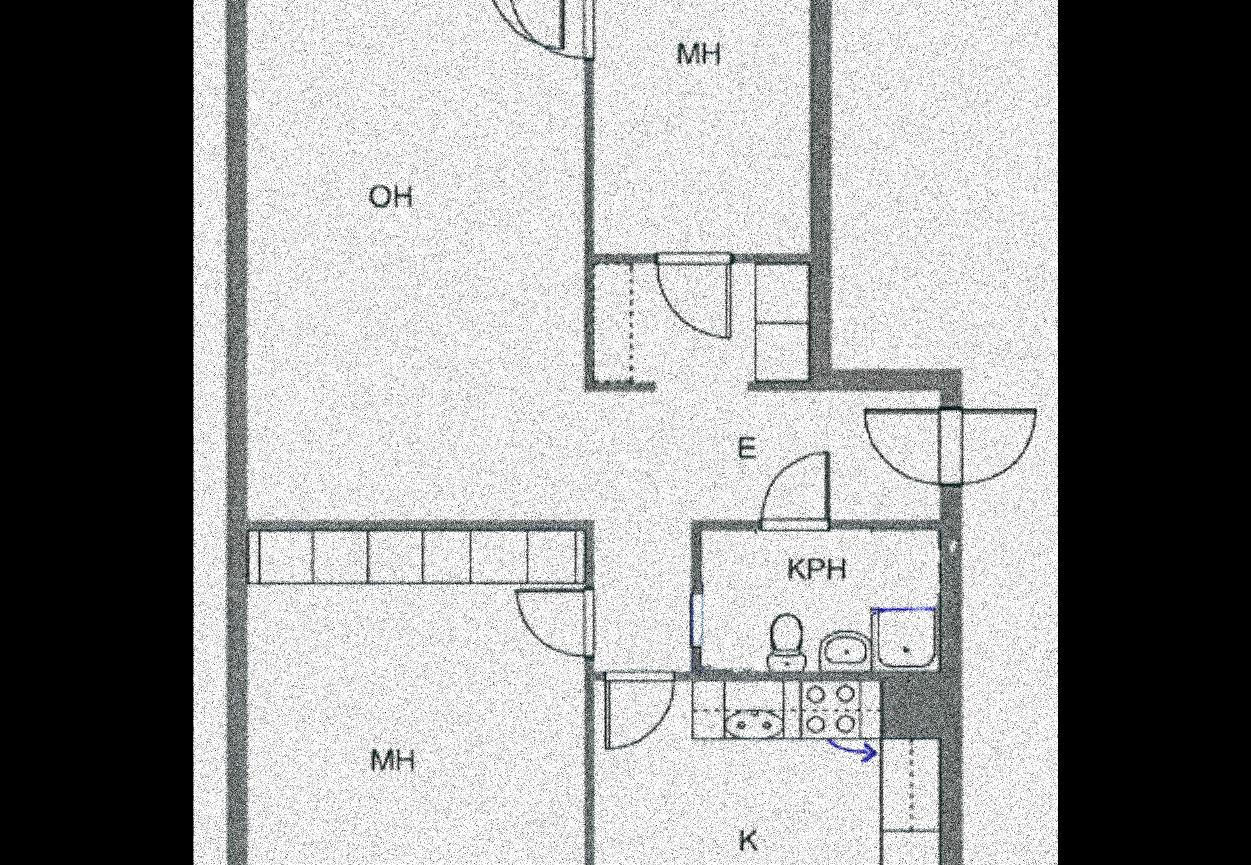door: (654, 250, 734, 346), (758, 446, 836, 536), (508, 584, 598, 661), (602, 670, 673, 751), (507, 0, 597, 63), (485, 0, 567, 49)
zone: (246, 0, 940, 676), (245, 531, 585, 865), (595, 683, 941, 865), (593, 0, 809, 256), (698, 527, 937, 672)
